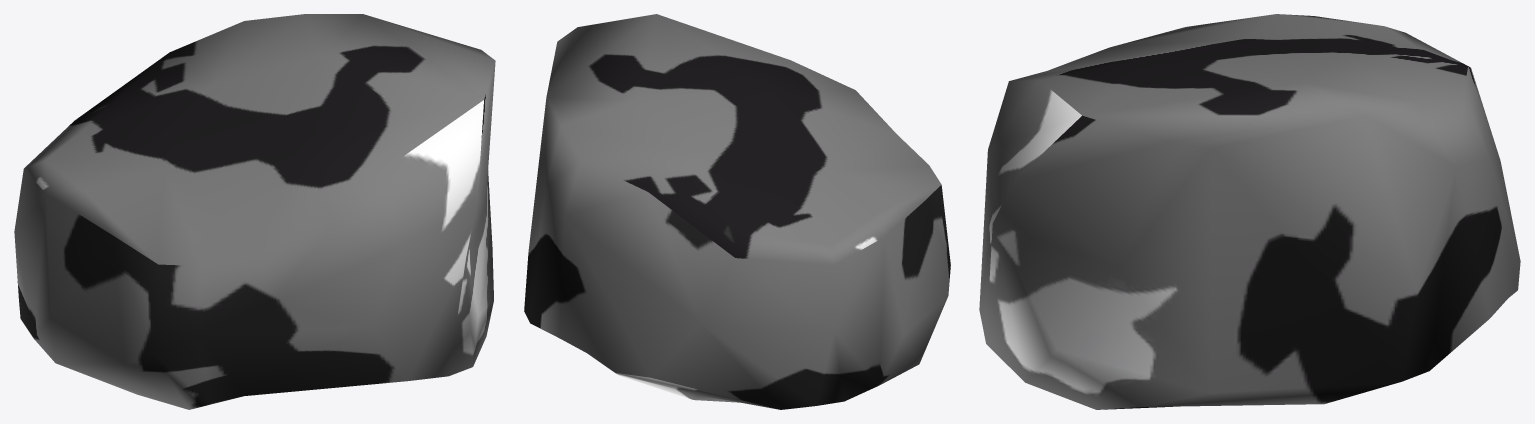
File: SM_Env_LargeRock_01.obj
The picture shows the model from 3 angles, left to right: view 1: azimuth 30°, elevation 25°; view 2: azimuth 150°, elevation 25°; view 3: azimuth 270°, elevation 25°; orthographic projection. The views are drawn at different scales.
Parts seen in each view (by area): view 1: SM_Env_LargeRock_01_Mat_LargeRocks; view 2: SM_Env_LargeRock_01_Mat_LargeRocks; view 3: SM_Env_LargeRock_01_Mat_LargeRocks.
Boxes of the visible parts, x1=… form: SM_Env_LargeRock_01_Mat_LargeRocks: x1=14, y1=14, x2=495, y2=409; SM_Env_LargeRock_01_Mat_LargeRocks: x1=524, y1=14, x2=950, y2=409; SM_Env_LargeRock_01_Mat_LargeRocks: x1=979, y1=14, x2=1520, y2=409.
Size of the model in its own units: 19.48 by 11.28 by 18.4.
1 material, 1 textured.
